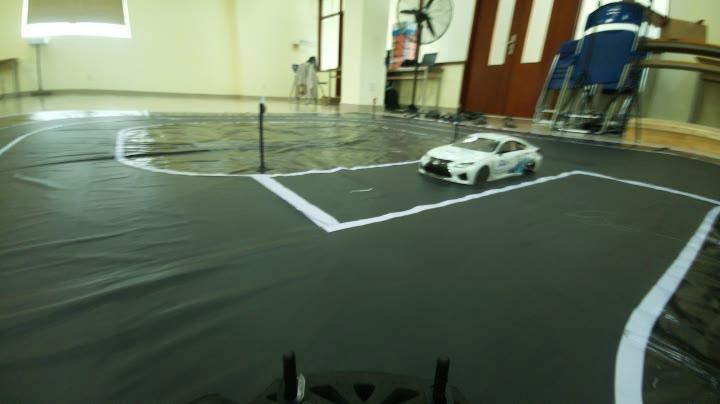car: (408, 119, 540, 185)
